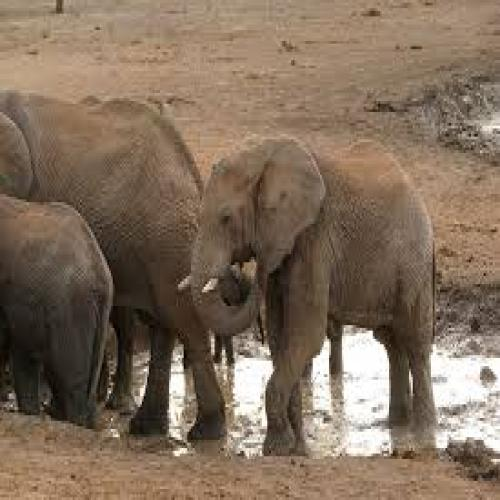asian_elephant-endangered: (178, 137, 438, 458), (0, 89, 229, 440), (0, 193, 116, 428)
